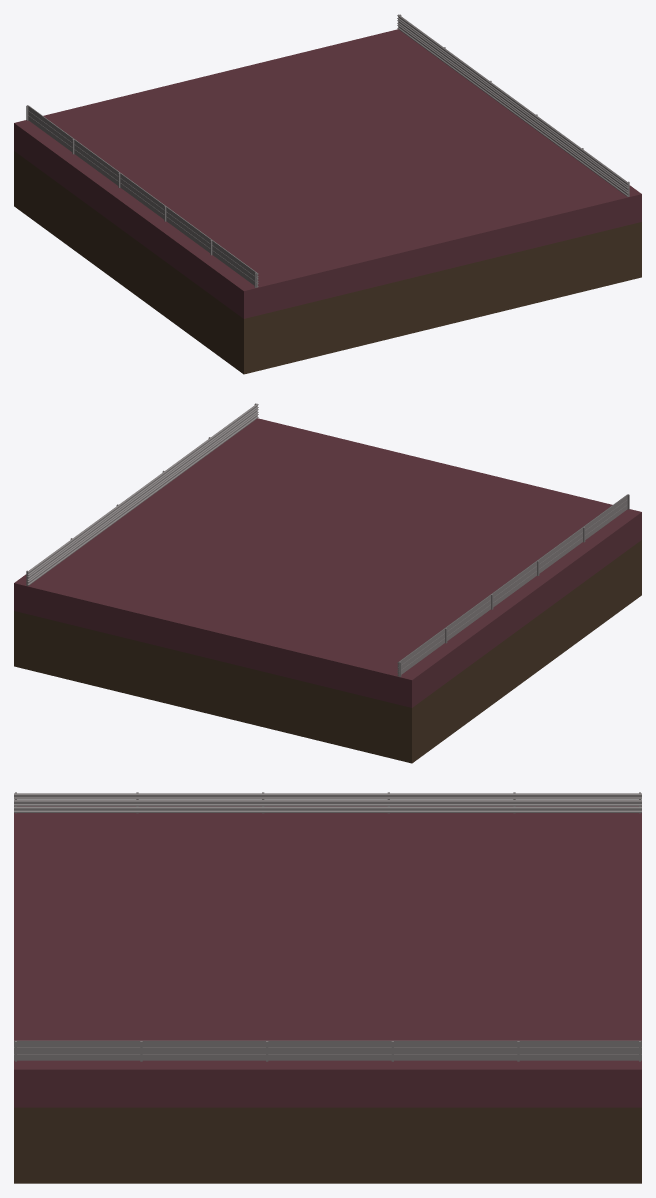
File: tile-race-track-straight-curbs.fbx
3 renders of one model, top to bottom at view 1: azimuth 30°, elevation 25°; view 2: azimuth 150°, elevation 25°; view 3: azimuth 270°, elevation 25°, orthographic. The views are drawn at different scales.
Parts seen in each view (by area): view 1: tile-race-track-straight-curbs; view 2: tile-race-track-straight-curbs; view 3: tile-race-track-straight-curbs.
Part boxes in pixels (bbox=[...]): tile-race-track-straight-curbs: bbox=[14, 14, 641, 374]; tile-race-track-straight-curbs: bbox=[14, 403, 641, 763]; tile-race-track-straight-curbs: bbox=[14, 792, 641, 1183].
Size of the model in its own units: 30 by 7.05 by 30.
